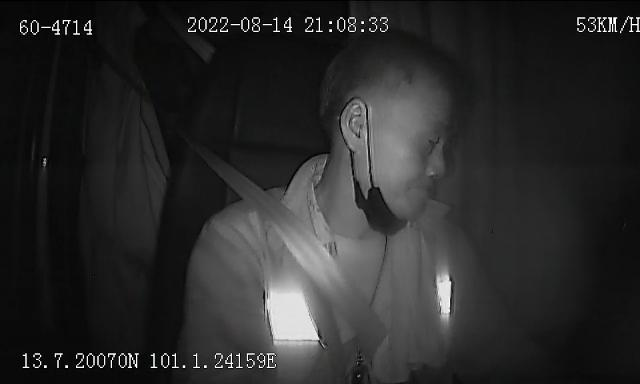Seatbelt: (195, 147, 385, 341)
